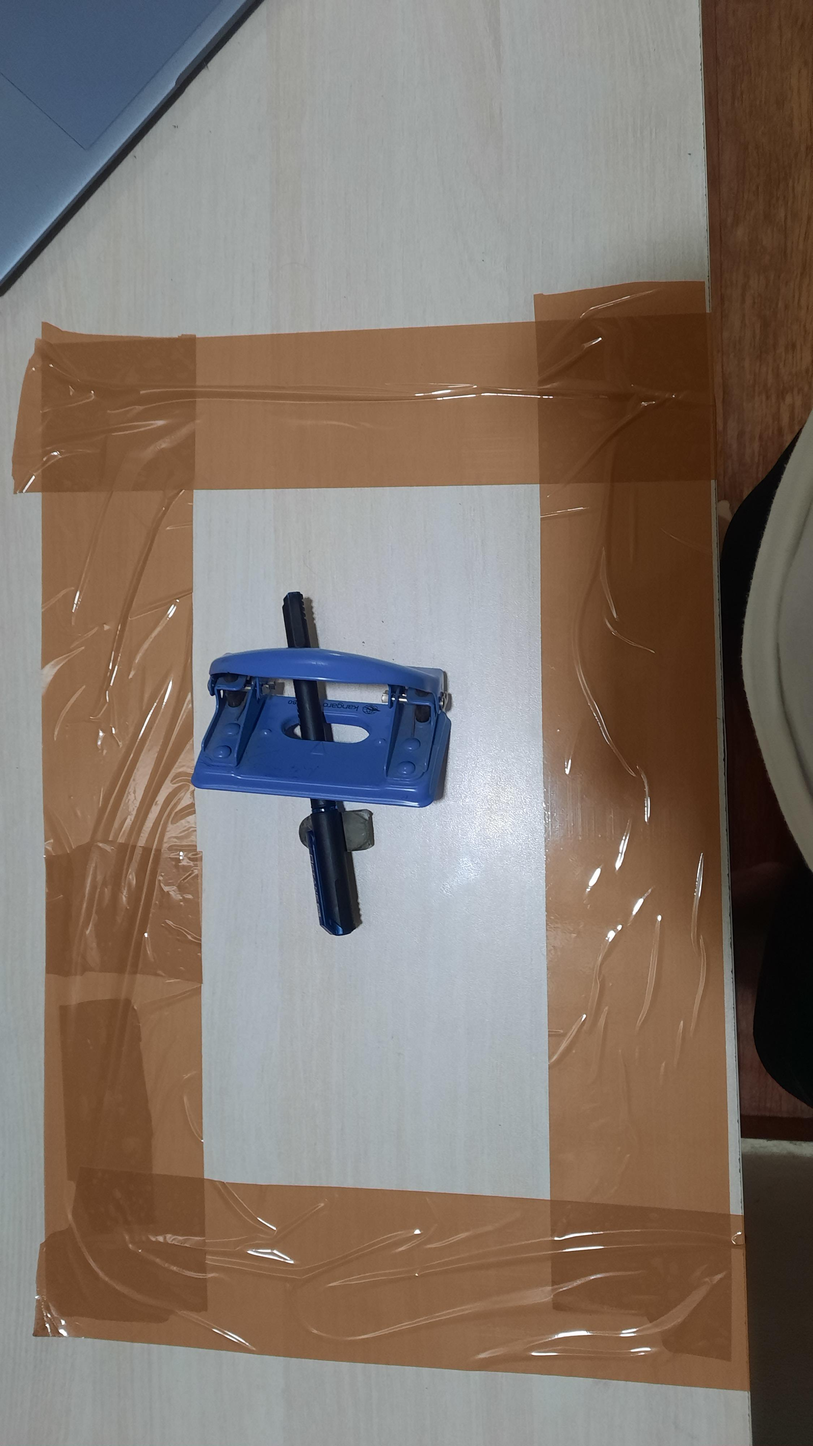Eraser: (298, 808, 374, 853)
Pen: (282, 592, 361, 937)
Punch: (190, 647, 452, 808)
